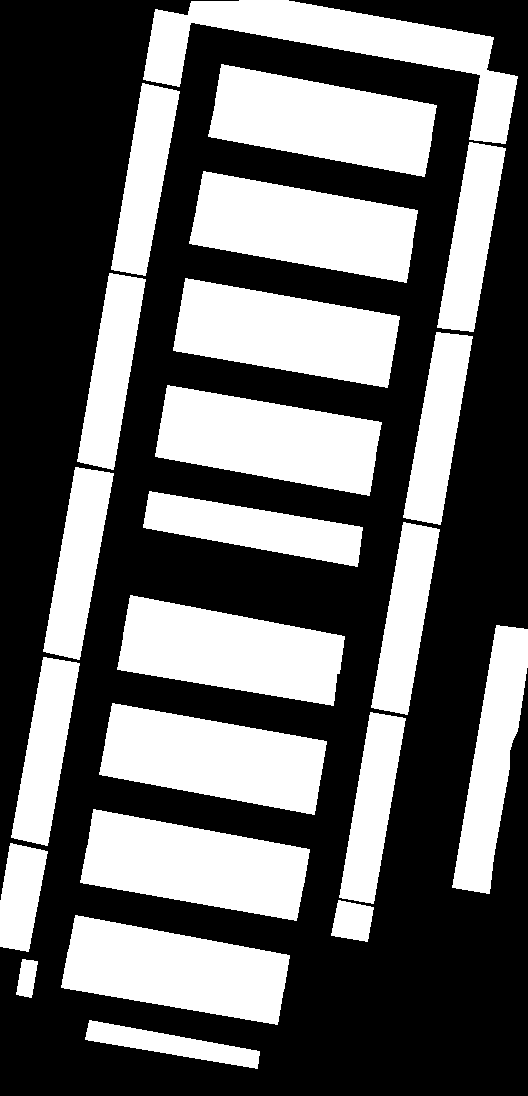parkingspot: (186, 0, 493, 75), (452, 625, 528, 893), (123, 595, 344, 673), (189, 205, 412, 282), (208, 99, 431, 176), (87, 809, 309, 886), (68, 915, 289, 991), (99, 738, 320, 814), (196, 171, 417, 247), (215, 64, 436, 140), (80, 845, 303, 920), (155, 419, 375, 495), (61, 949, 283, 1024), (105, 703, 326, 778), (179, 278, 399, 353), (143, 491, 362, 566), (161, 385, 381, 459), (173, 313, 393, 387), (117, 632, 337, 705), (43, 467, 113, 659), (77, 273, 145, 469), (403, 332, 472, 524), (111, 83, 179, 275), (371, 522, 439, 714), (437, 142, 505, 331), (11, 657, 79, 845), (339, 712, 405, 903), (85, 1020, 259, 1068), (0, 843, 47, 951), (143, 9, 191, 86), (469, 69, 517, 143), (331, 900, 373, 941), (16, 959, 37, 997)
